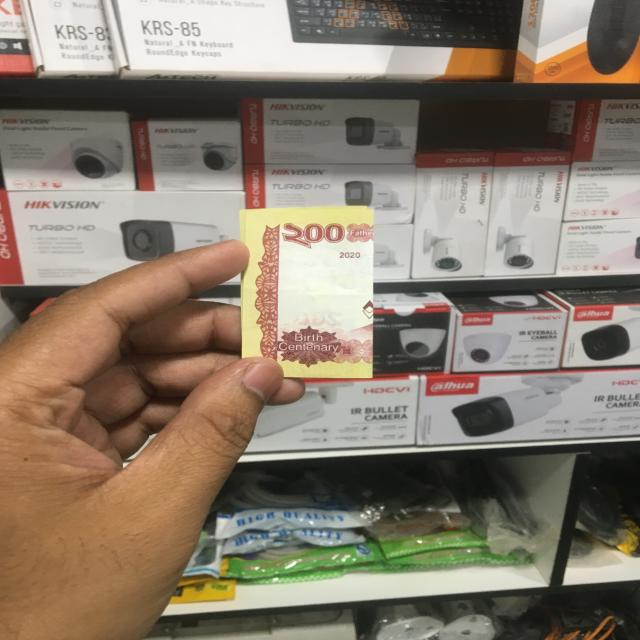Taka: (244, 207, 374, 378)
